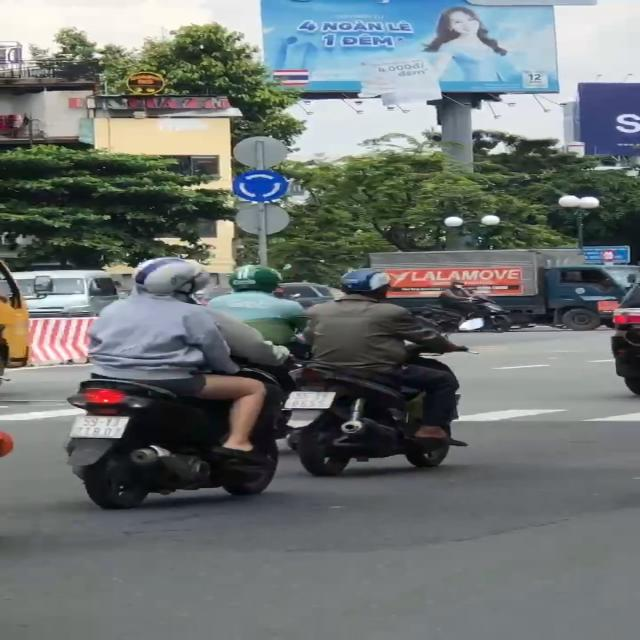Bien bao noi giao nhau chay theo vong xuyen: (232, 168, 292, 202)
